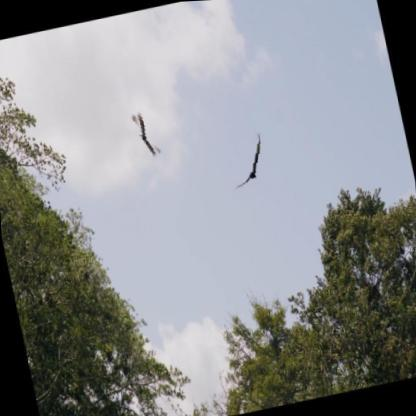bird: (222, 128, 271, 196), (127, 107, 166, 161)
